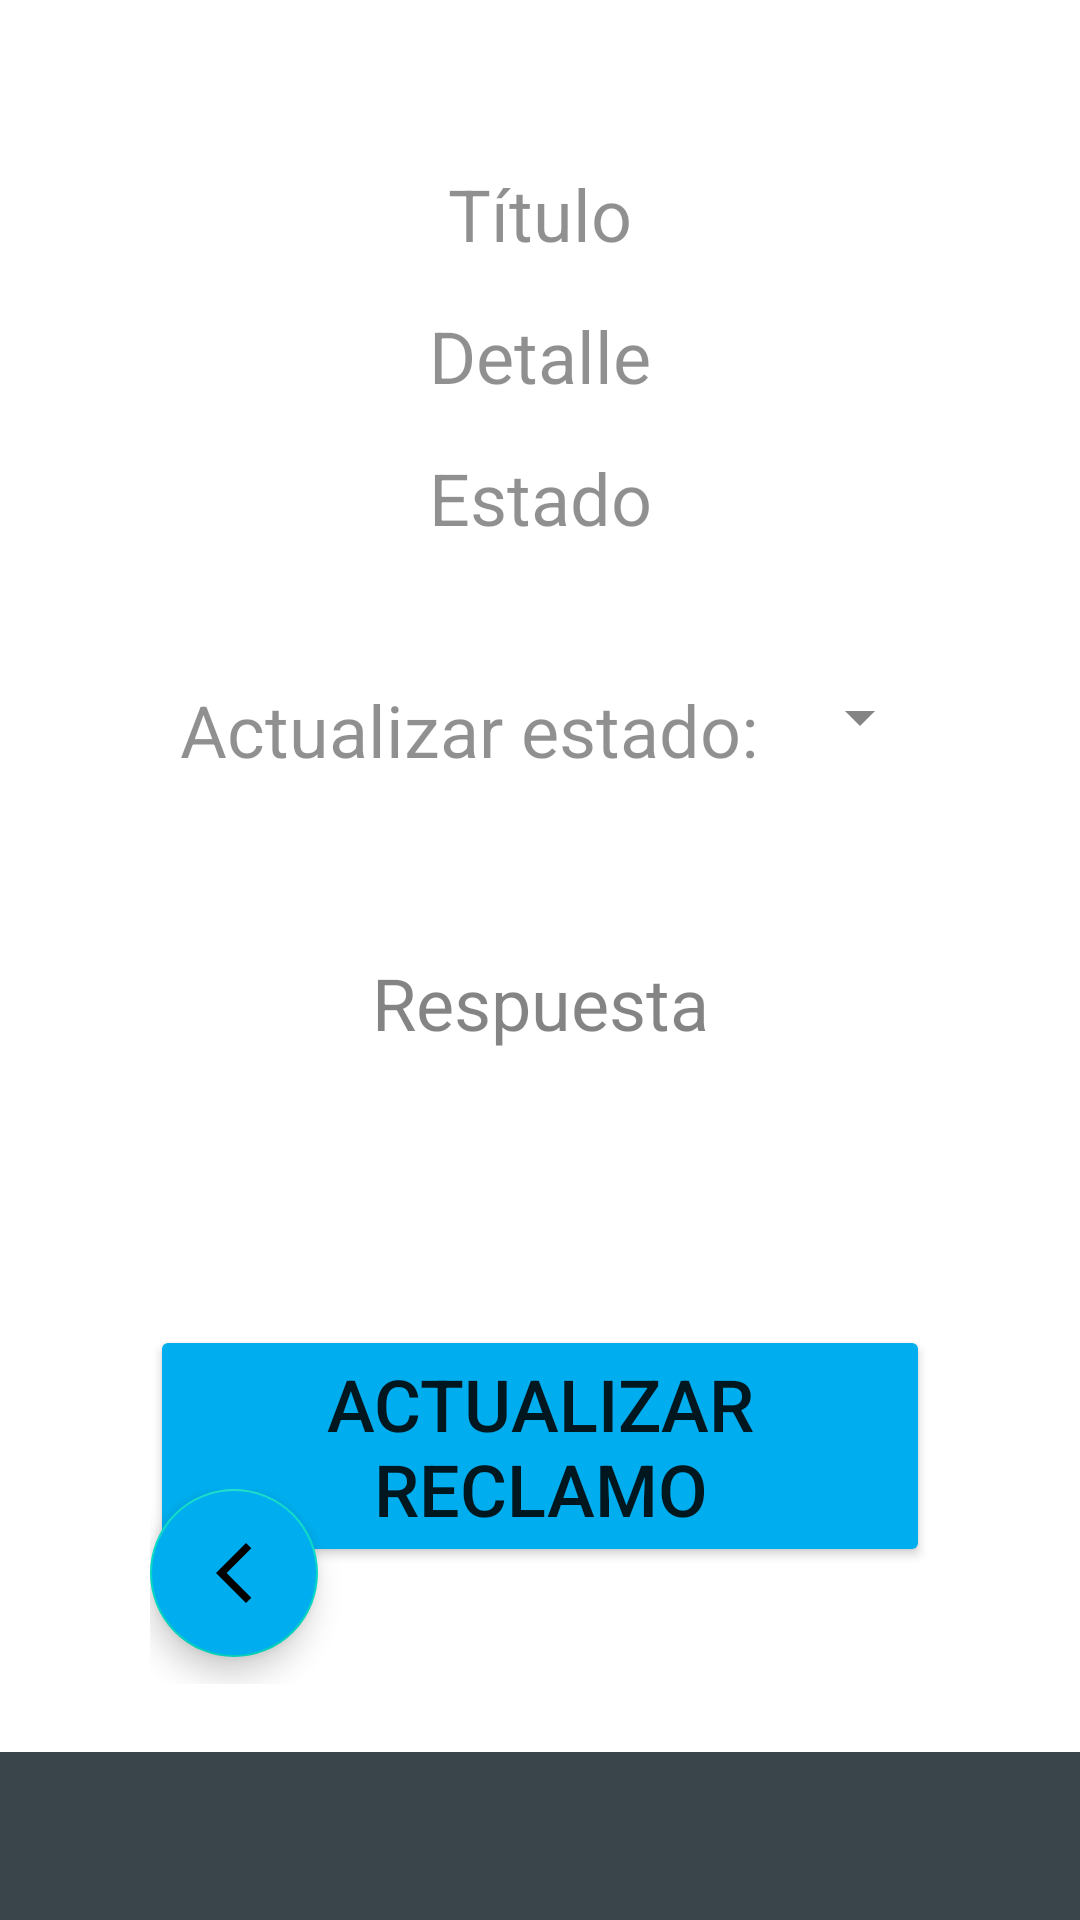

Icon click points for this 1080 x 1920 phone screenshot, format [x,y]:
volver: [234,1573]
